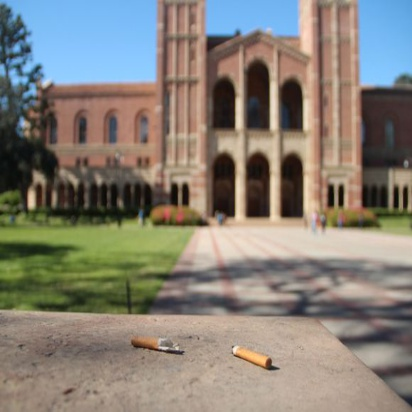cigarette: (124, 333, 189, 358), (228, 343, 274, 370)
